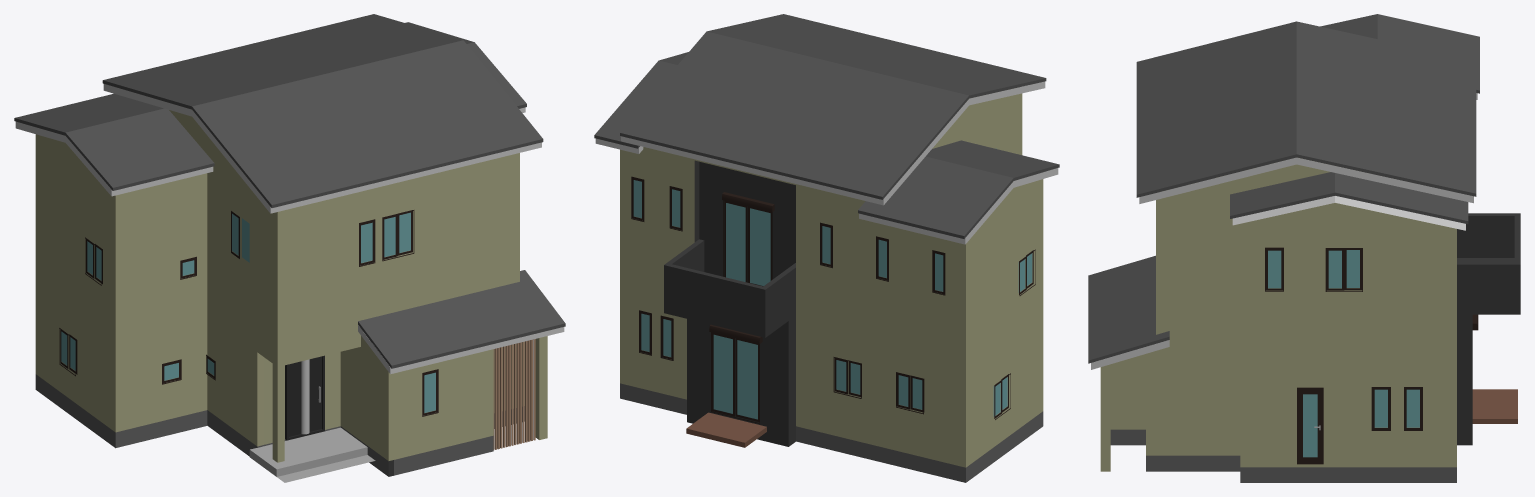
The model's file is house_007_middle.fbx.
3 renders of one model, left to right at view 1: azimuth 30°, elevation 25°; view 2: azimuth 150°, elevation 25°; view 3: azimuth 270°, elevation 25°, orthographic. The views are drawn at different scales.
Parts seen in each view (by area): view 1: polySurface21; view 2: polySurface21; view 3: polySurface21.
Part boxes in pixels (x1,y1,x2,y2): polySurface21: (14, 14, 565, 482); polySurface21: (594, 14, 1059, 482); polySurface21: (1088, 14, 1520, 482).
Size of the model in its own units: 9.61 by 7.67 by 9.24.
